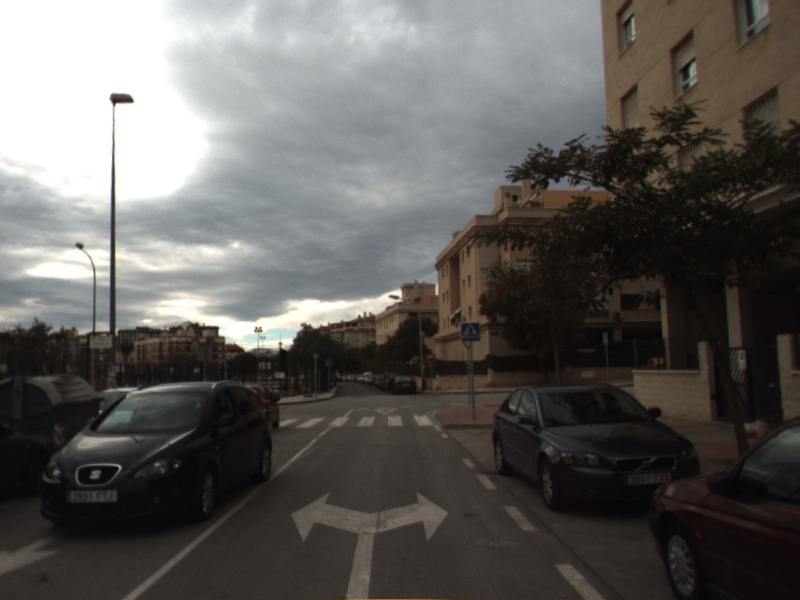LEFT_RIGHT: (288, 486, 451, 600)
